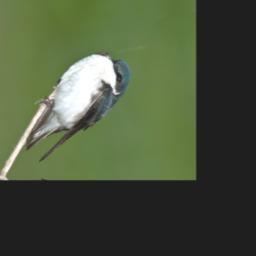Swallow: (13, 44, 144, 165)
